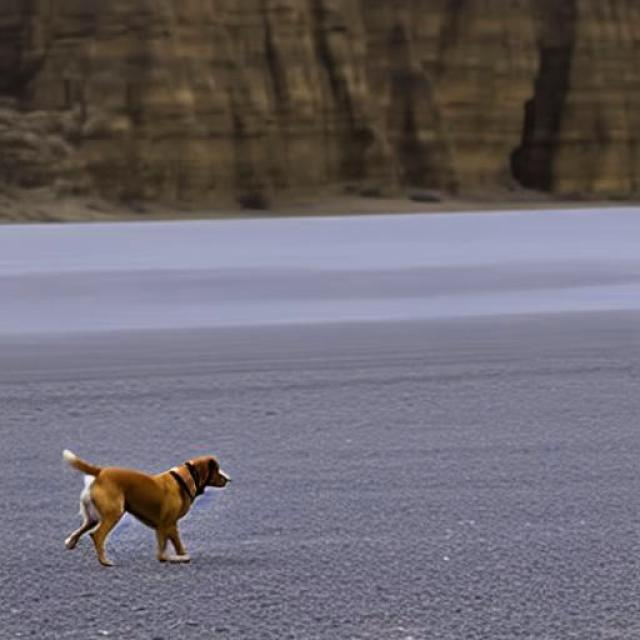Dog: (61, 448, 235, 566)
